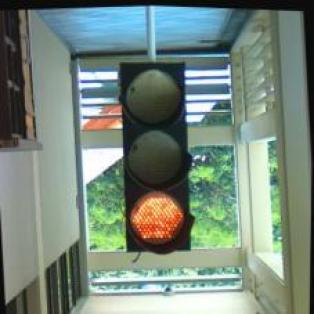Semoforo Rojo: (112, 57, 201, 259)
